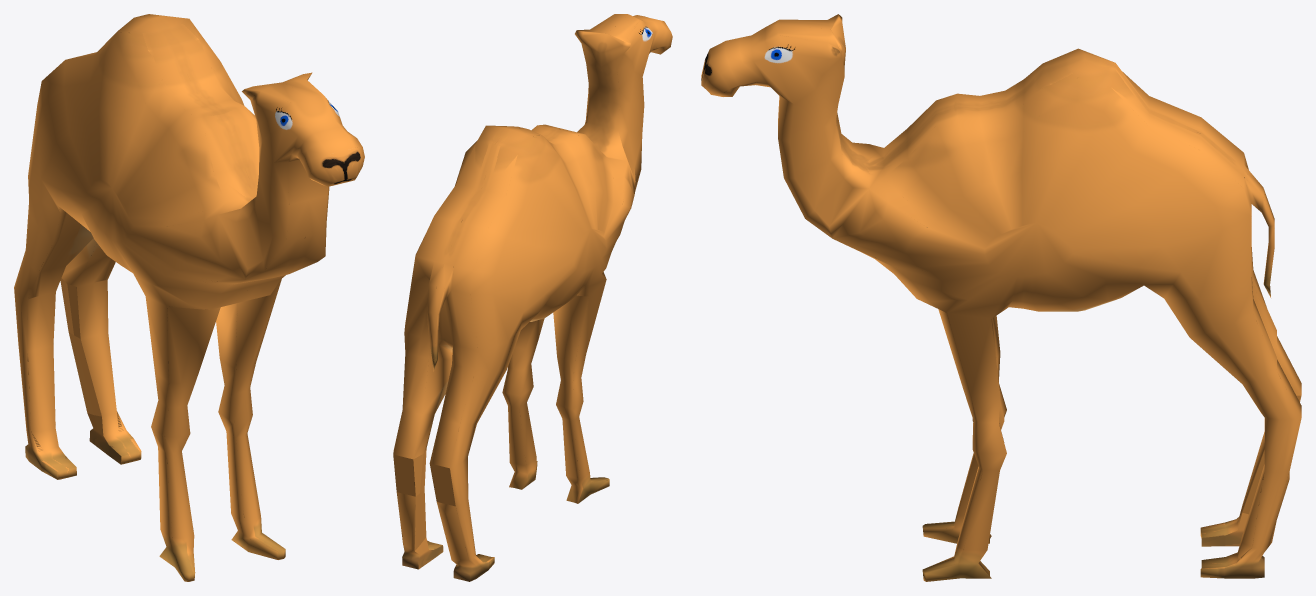
The model's file is camel.obj.
The picture shows the model from 3 angles, left to right: view 1: azimuth 30°, elevation 25°; view 2: azimuth 150°, elevation 25°; view 3: azimuth 270°, elevation 25°; orthographic projection. The views are drawn at different scales.
Visible parts, largest first — view 1: Plane; view 2: Plane; view 3: Plane.
Boxes of the visible parts, x1=… form: Plane: x1=14, y1=14, x2=364, y2=581; Plane: x1=393, y1=14, x2=672, y2=581; Plane: x1=701, y1=14, x2=1301, y2=581.
Size of the model in its own units: 1.19 by 3.81 by 3.89.
1 material, 1 textured.
